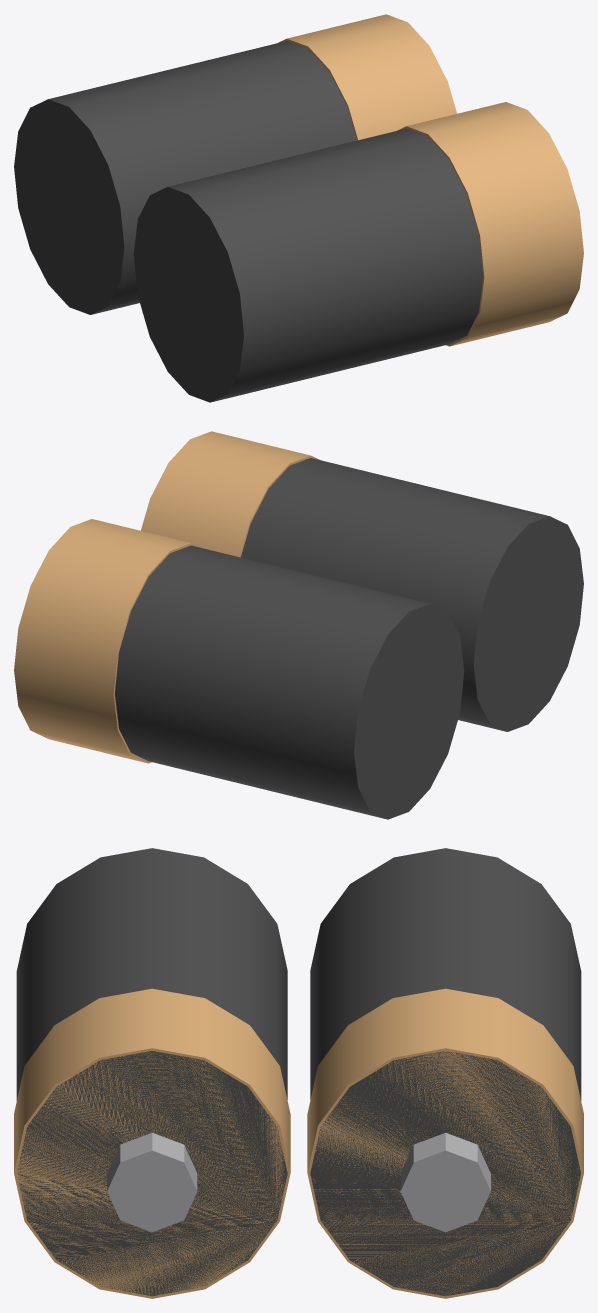
Rendered from SM_Battery.fbx.
The picture shows the model from 3 angles, top to bottom: view 1: azimuth 30°, elevation 25°; view 2: azimuth 150°, elevation 25°; view 3: azimuth 270°, elevation 25°; orthographic projection. The views are drawn at different scales.
Visible parts, largest first — view 1: SM_Battery; view 2: SM_Battery; view 3: SM_Battery.
Part boxes in pixels (box(x1,y1,x2,y2)): SM_Battery: box(14, 14, 583, 402); SM_Battery: box(14, 431, 583, 819); SM_Battery: box(14, 848, 583, 1298).
Bounding box in the file's own units: 9.25 × 4.9 × 10.1.
